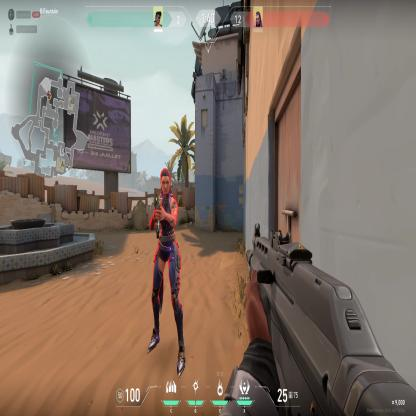enemy: (146, 165, 186, 380)
